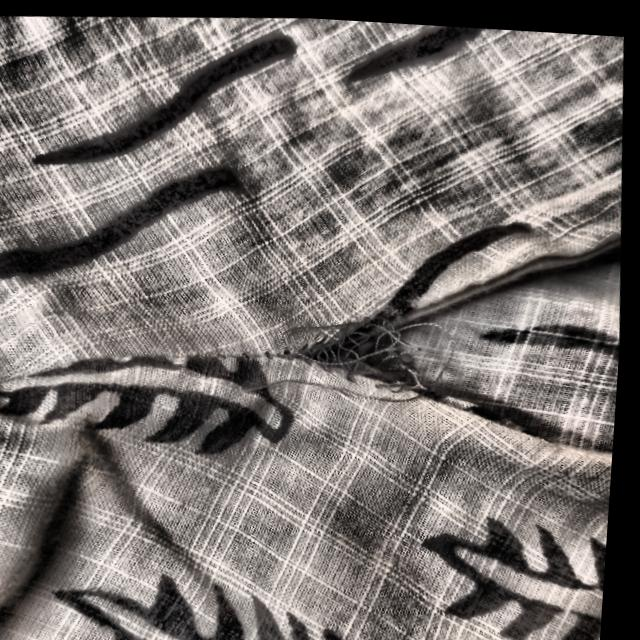Stitch: (223, 284, 491, 429)
